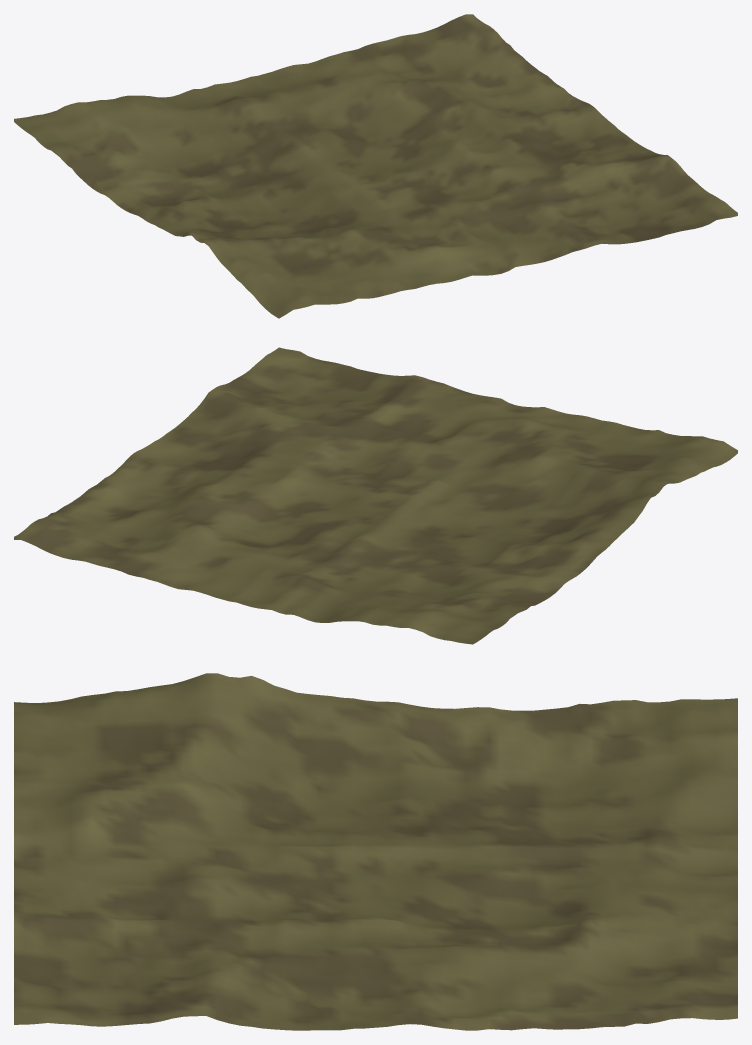
File: land_f_01_07.glb
3 views of the same model, one above another, from view 1: azimuth 30°, elevation 25°; view 2: azimuth 150°, elevation 25°; view 3: azimuth 270°, elevation 25° (orthographic). The views are drawn at different scales.
Parts seen in each view (by area): view 1: land_f_01_07; view 2: land_f_01_07; view 3: land_f_01_07.
Boxes of the visible parts, x1=… form: land_f_01_07: x1=14, y1=14, x2=737, y2=318; land_f_01_07: x1=14, y1=347, x2=737, y2=644; land_f_01_07: x1=14, y1=673, x2=737, y2=1030.
Size of the model in its own units: 3840 by 318 by 3840.
